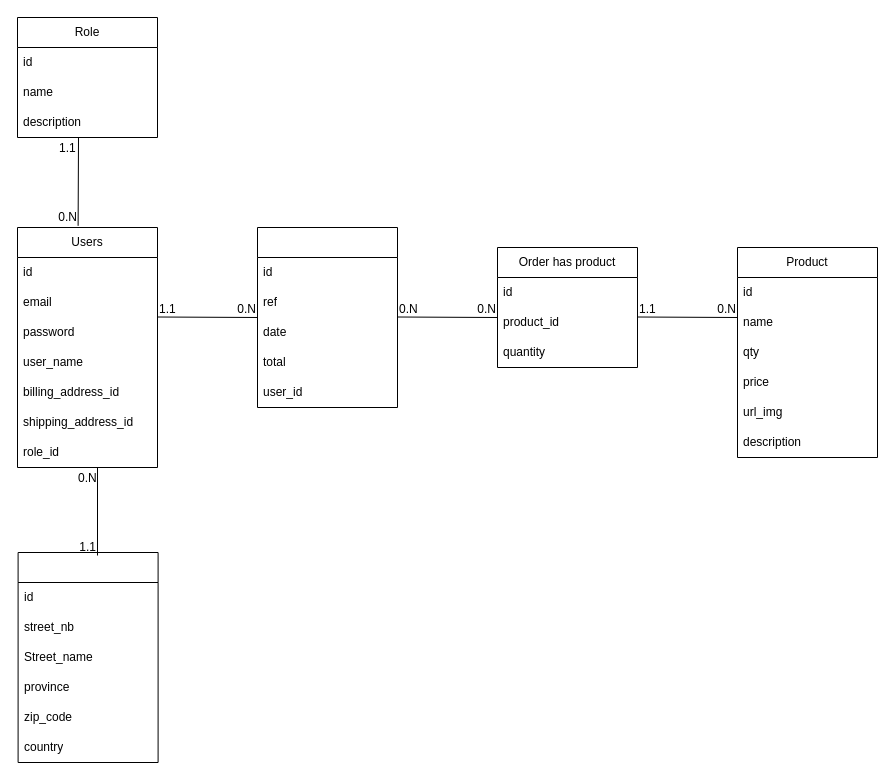
The diagram is 895 pixels wide and 780 high, and some of its shapes have lost their labels. The box of each missing label's shape, as (x1, y1, x2, y2) in pixels:
Addresses: (17, 552, 158, 762)
Billing Order: (256, 226, 398, 408)
